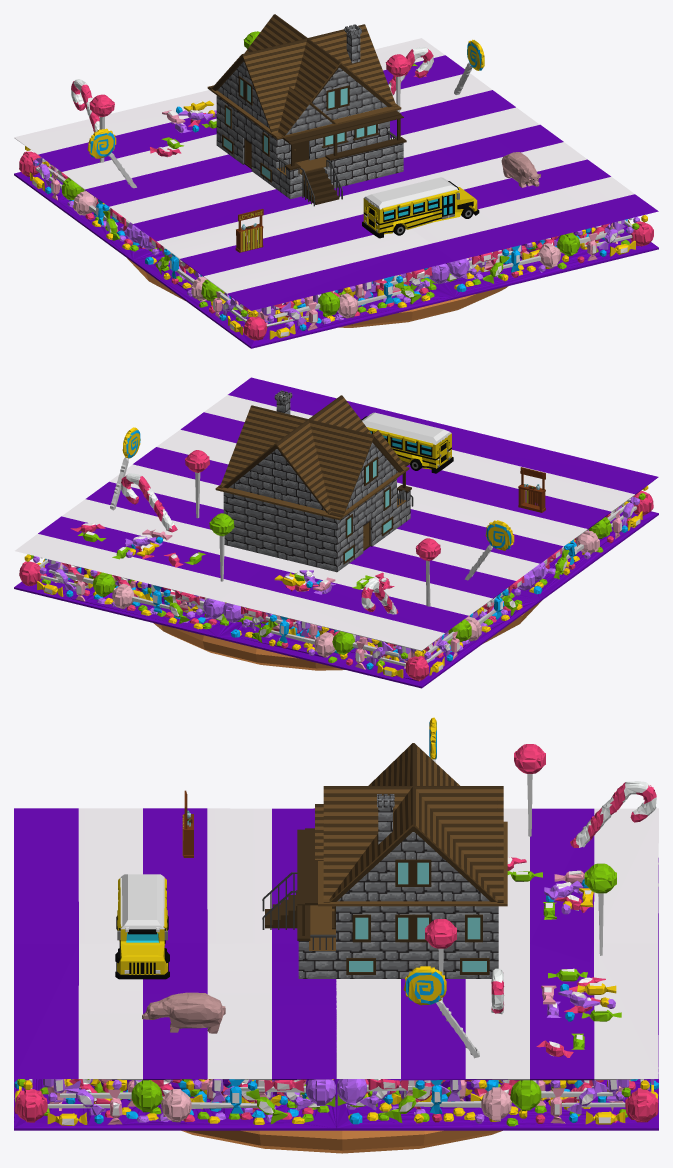
The picture shows the model from 3 angles, top to bottom: view 1: azimuth 30°, elevation 25°; view 2: azimuth 150°, elevation 25°; view 3: azimuth 270°, elevation 25°; orthographic projection. The views are drawn at different scales.
Parts seen in each view (by area): view 1: TERRAIN_CANDY, Cube.586, VEHICLES_SCHOOL_BUS, UNDERGROUND_PIZZA, ANIMAL_HIPOPOTAMO, OBJRANDOM_LEMONADE_STAND; view 2: TERRAIN_CANDY, Cube.586, VEHICLES_SCHOOL_BUS, UNDERGROUND_PIZZA, OBJRANDOM_LEMONADE_STAND; view 3: TERRAIN_CANDY, Cube.586, VEHICLES_SCHOOL_BUS, UNDERGROUND_PIZZA, ANIMAL_HIPOPOTAMO.
Part boxes in pixels (left/top/right/bottom): TERRAIN_CANDY: left=14, top=31, right=658, bottom=348; Cube.586: left=207, top=14, right=406, bottom=206; VEHICLES_SCHOOL_BUS: left=362, top=177, right=479, bottom=238; UNDERGROUND_PIZZA: left=127, top=258, right=508, bottom=327; ANIMAL_HIPOPOTAMO: left=501, top=152, right=540, bottom=187; OBJRANDOM_LEMONADE_STAND: left=235, top=209, right=263, bottom=252; TERRAIN_CANDY: left=14, top=377, right=658, bottom=688; Cube.586: left=215, top=390, right=413, bottom=572; VEHICLES_SCHOOL_BUS: left=361, top=412, right=453, bottom=473; UNDERGROUND_PIZZA: left=153, top=601, right=541, bottom=670; OBJRANDOM_LEMONADE_STAND: left=518, top=467, right=545, bottom=512; TERRAIN_CANDY: left=14, top=717, right=658, bottom=1130; Cube.586: left=262, top=743, right=507, bottom=978; VEHICLES_SCHOOL_BUS: left=115, top=874, right=169, bottom=979; UNDERGROUND_PIZZA: left=181, top=1130, right=502, bottom=1153; ANIMAL_HIPOPOTAMO: left=142, top=992, right=225, bottom=1033.
Bounding box in the file's own units: 4059 × 1805 × 4000.
Materials: 35 (3 with a texture image).
